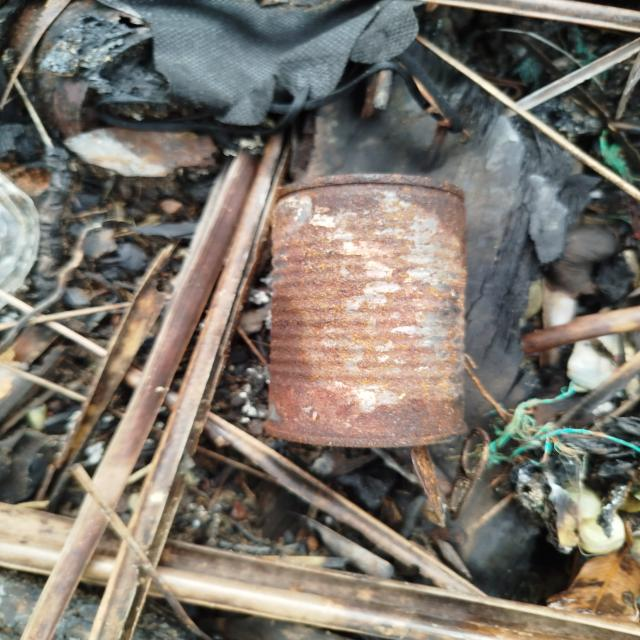metal: (252, 170, 490, 464)
